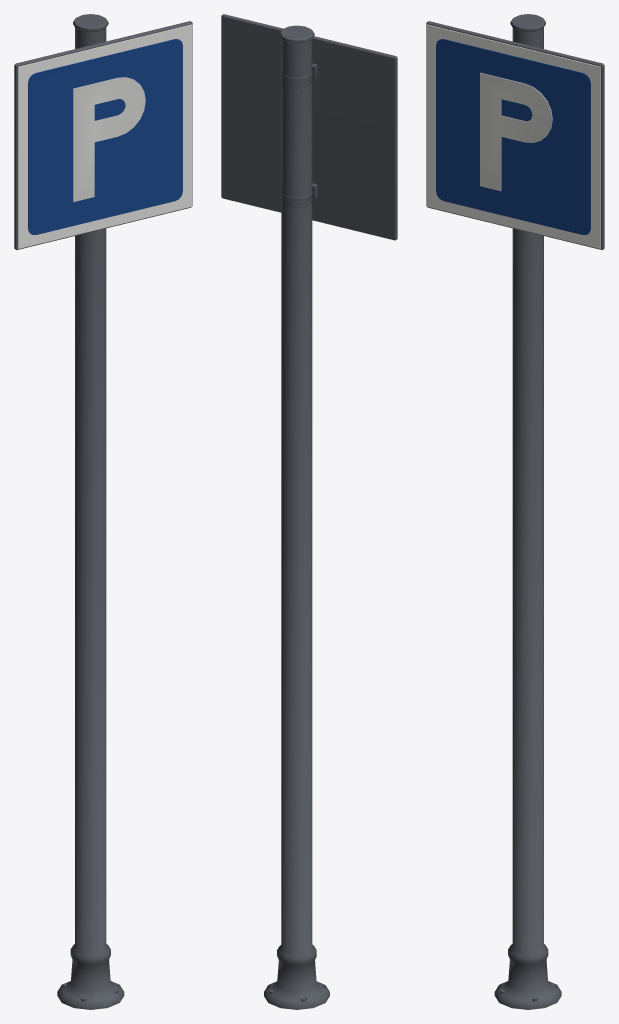
The model's file is parkingSign.glb.
3 views of the same model, side by side, from view 1: azimuth 30°, elevation 25°; view 2: azimuth 150°, elevation 25°; view 3: azimuth 330°, elevation 25° (orthographic).
Parts seen in each view (by area): view 1: parkingSign; view 2: parkingSign; view 3: parkingSign.
Boxes of the visible parts, x1,y1,x2,y2 form: parkingSign: (14,14,192,1009); parkingSign: (221,14,397,1009); parkingSign: (426,14,604,1009).
Bounding box in the file's own units: 0.46 × 2.41 × 0.15.
